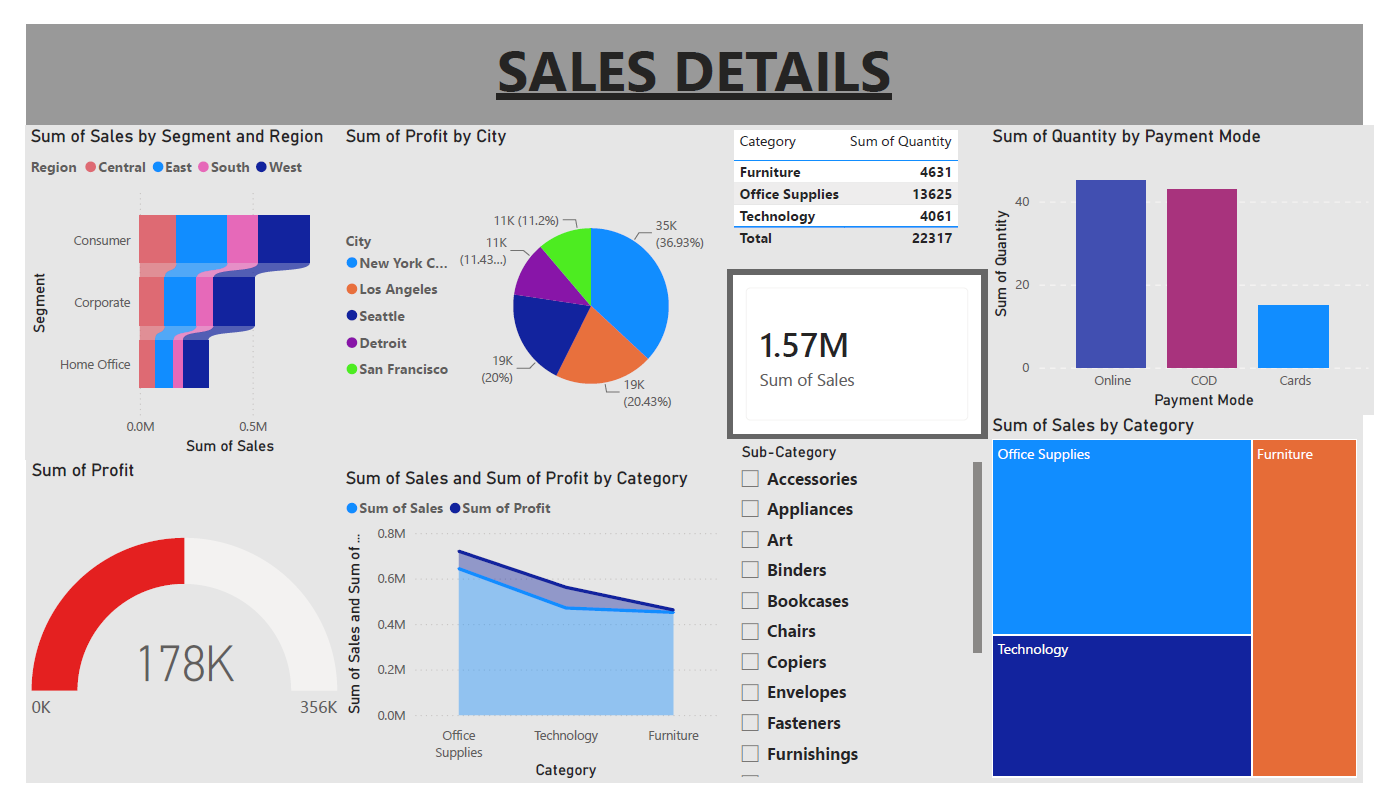

This screenshot's page, from the dashboard's own definition file:
{"tool":"powerbi","page":{"name":"Page 1","canvas":[1280,720],"ordinal":0},"visuals":[{"type":"textbox","box":[1.1,0,1267.8,95.6],"z":0},{"type":"textbox","box":[9.6,105.7,1259.7,614.8],"z":1000},{"type":"barChart","fields":{"Category":["Sheet1.Segment"],"Y":["Sum(Sheet1.Sales)"],"Series":["Sheet1.Region"]},"box":[0,96.1,299.1,317],"z":2000},{"type":"pieChart","fields":{"Y":["Sum(Sheet1.Profit)"],"Category":["Sheet1.City"]},"box":[298.6,95.7,368.6,324.3],"z":3000},{"type":"gauge","fields":{"Y":["Sum(Sheet1.Profit)"]},"box":[1.4,413,299.1,307.4],"z":4000},{"type":"stackedAreaChart","fields":{"Y":["Sum(Sheet1.Sales)","Sum(Sheet1.Profit)"],"Category":["Sheet1.Category"]},"box":[298.6,420,368.6,300],"z":5000},{"type":"treemap","fields":{"Group":["Sheet1.Category"],"Values":["Sum(Sheet1.Sales)"]},"box":[912.9,370,355.7,350],"z":6000},{"type":"columnChart","fields":{"Y":["Sum(Sheet1.Quantity)"],"Category":["Sheet1.Payment Mode"]},"box":[912.9,95.7,367.1,274.3],"z":7000},{"type":"tableEx","fields":{"Values":["Sheet1.Category","Sum(Sheet1.Quantity)"]},"box":[667.1,95.7,245.7,137.1],"z":8000},{"type":"slicer","fields":{"Values":["Sheet1.Sub-Category"]},"box":[667.1,392.9,245.7,327.1],"z":9000},{"type":"cardVisual","fields":{"Data":["Sum(Sheet1.Sales)"]},"box":[667.1,232.9,245.7,160],"z":10000}]}

Visuals, with their boxes in screenshot pixels (x1, y1, x2, y2), scaled from the page's 1280x720 canvas onto the 1397x806 screenshot:
textbox: l=1, t=0, r=1385, b=107
textbox: l=10, t=118, r=1385, b=805
barChart - Sheet1.Segment x Sum(Sheet1.Sales): l=0, t=108, r=326, b=462
pieChart - Sum(Sheet1.Profit) x Sheet1.City: l=326, t=107, r=728, b=470
gauge - Sum(Sheet1.Profit): l=2, t=462, r=328, b=805
stackedAreaChart - Sum(Sheet1.Sales) x Sum(Sheet1.Profit): l=326, t=470, r=728, b=805
treemap - Sheet1.Category x Sum(Sheet1.Sales): l=996, t=414, r=1385, b=805
columnChart - Sum(Sheet1.Quantity) x Sheet1.Payment Mode: l=996, t=107, r=1396, b=414
tableEx - Sheet1.Category x Sum(Sheet1.Quantity): l=728, t=107, r=996, b=261
slicer - Sheet1.Sub-Category: l=728, t=440, r=996, b=805
cardVisual - Sum(Sheet1.Sales): l=728, t=261, r=996, b=440
